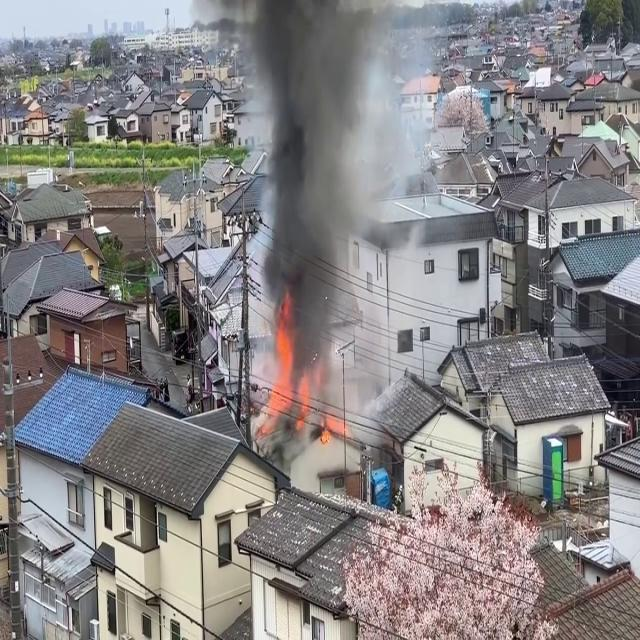Fire: (262, 311, 299, 429)
Smoke: (246, 0, 396, 416)
